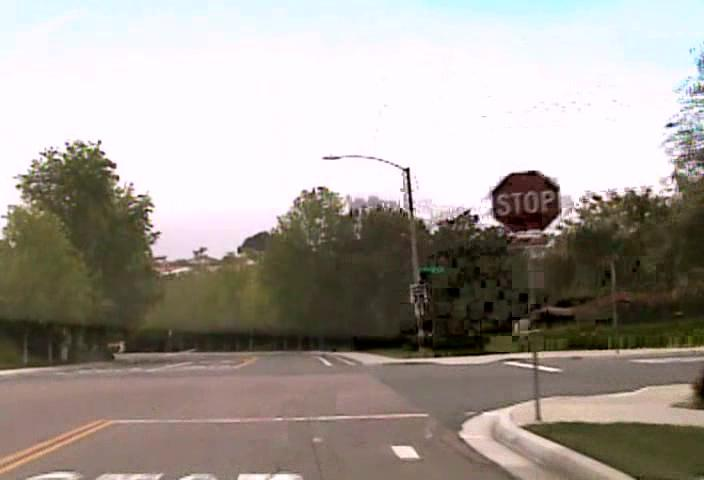stop: (491, 169, 561, 232)
